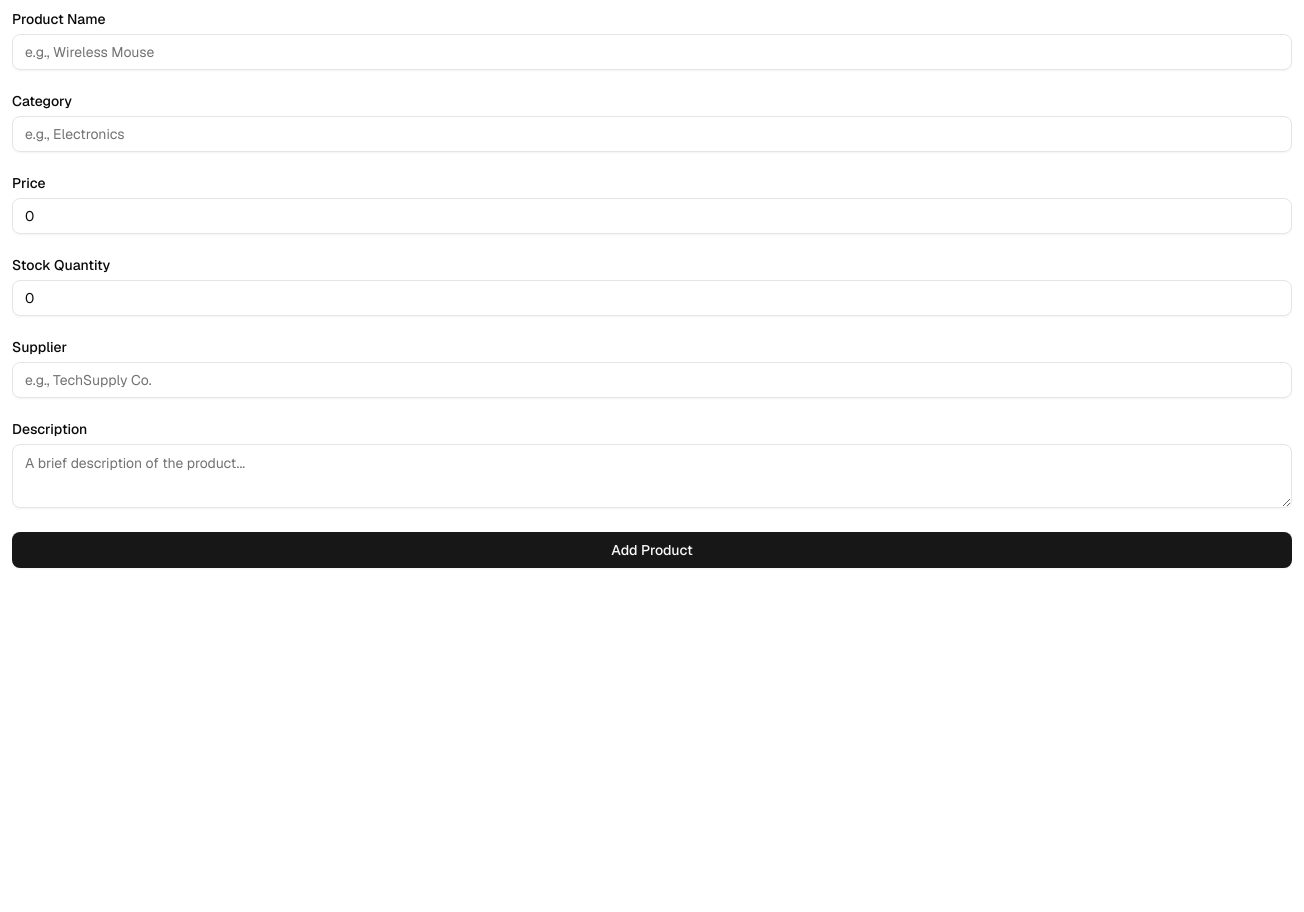
Test: ProductForm › shows validation error for min length (e.g. product name)
This screenshot has width=1304, height=912.
In the field labelled "Product Name": (652, 52) [12,34,1292,70], type "A"
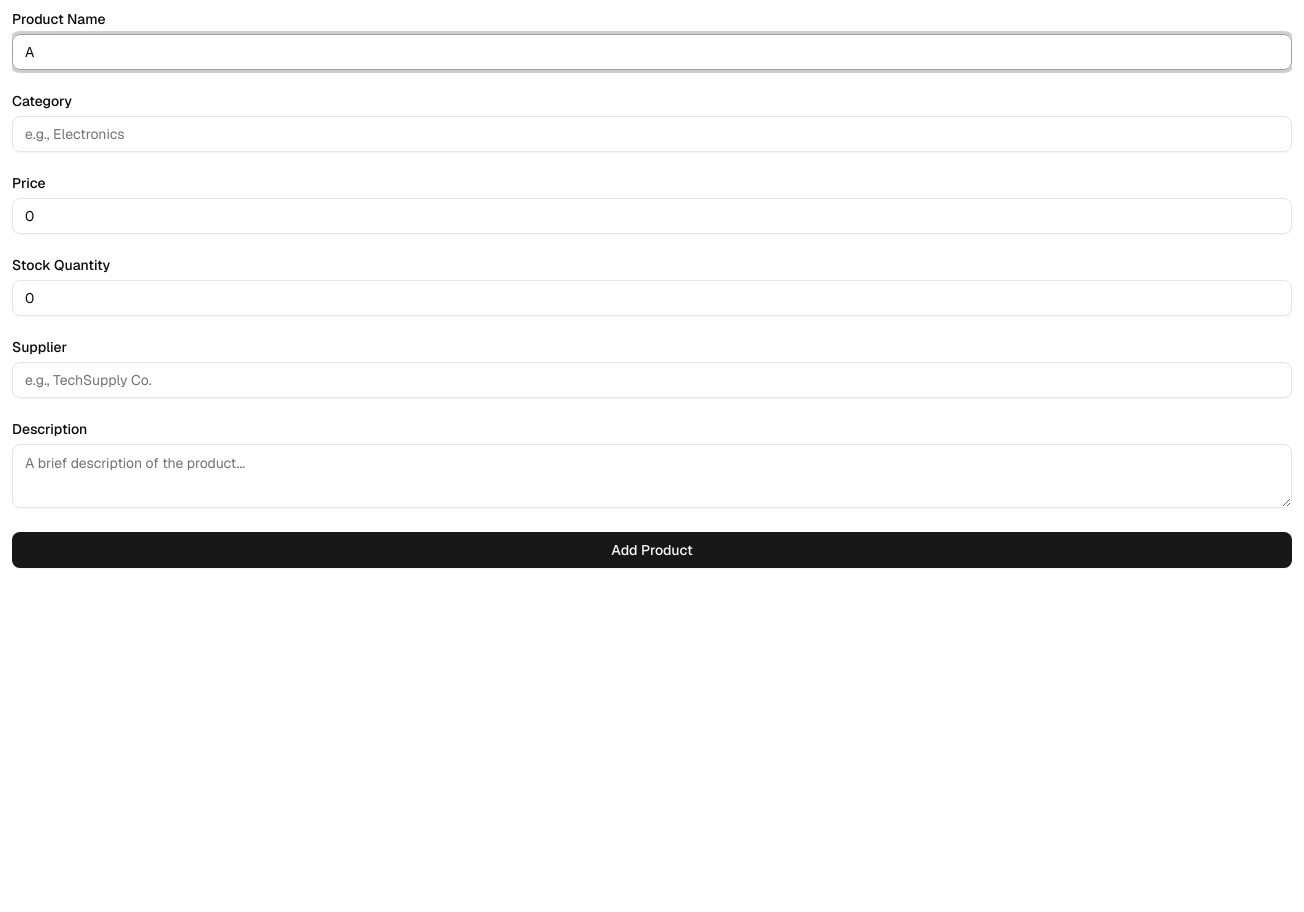
Click the button "Add Product": (652, 550) [12,532,1292,568]
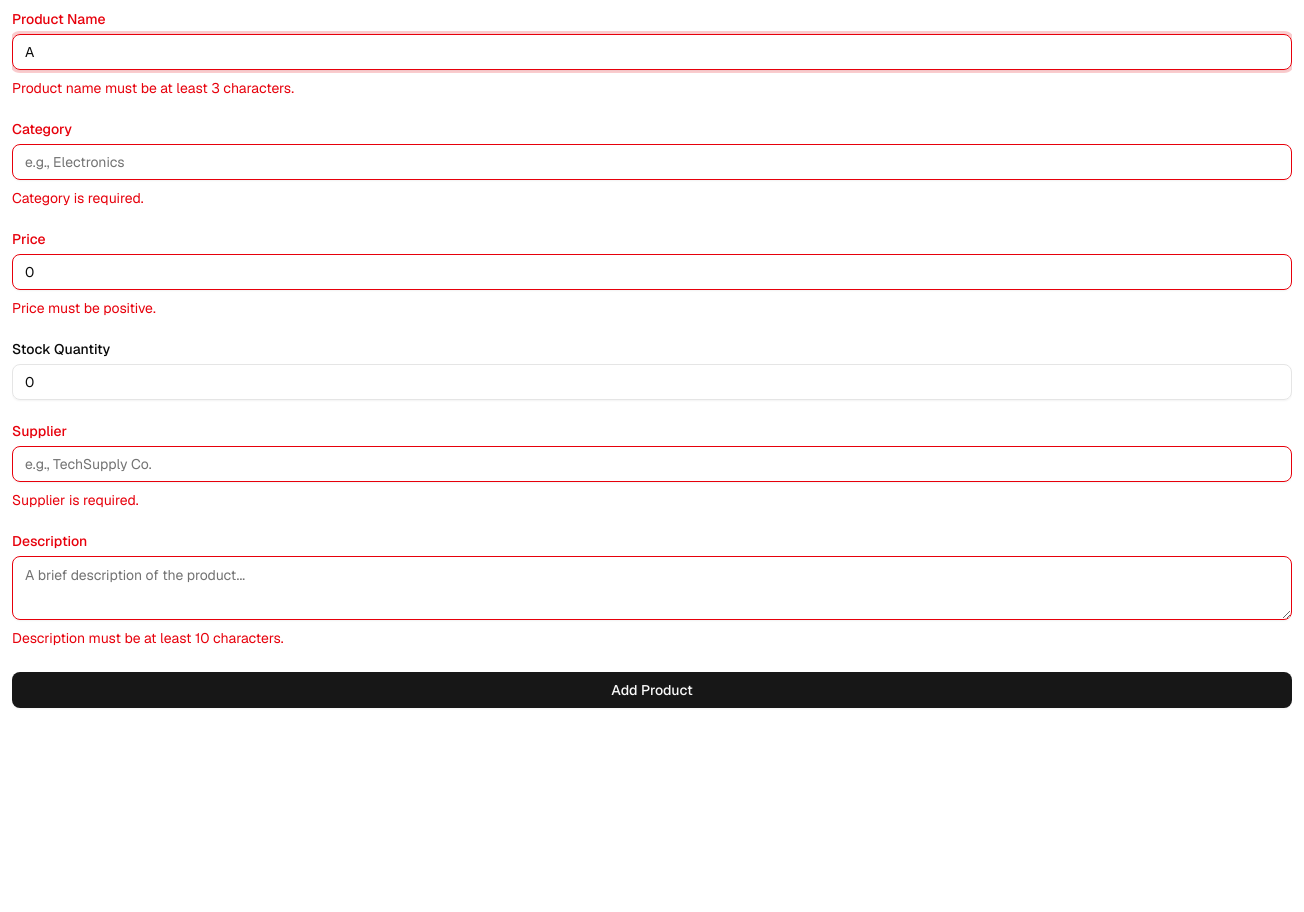
Now the text "Product name must be at least 3 characters." is shown, box [12,79,294,97]
